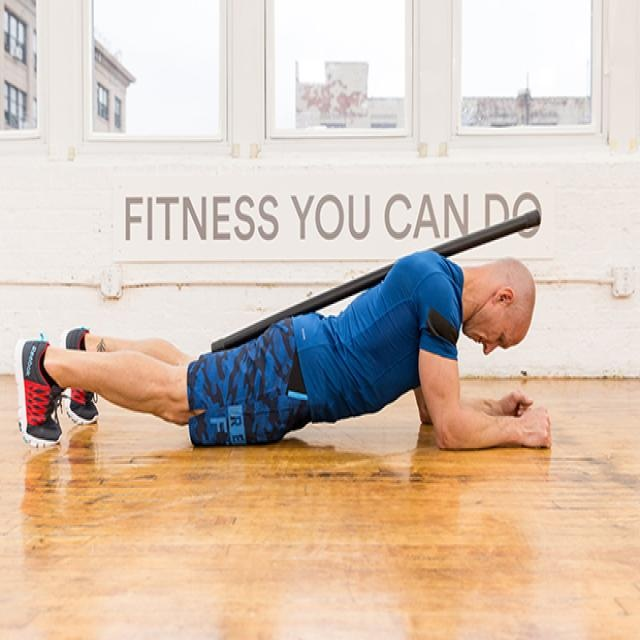plank: (7, 244, 556, 458)
